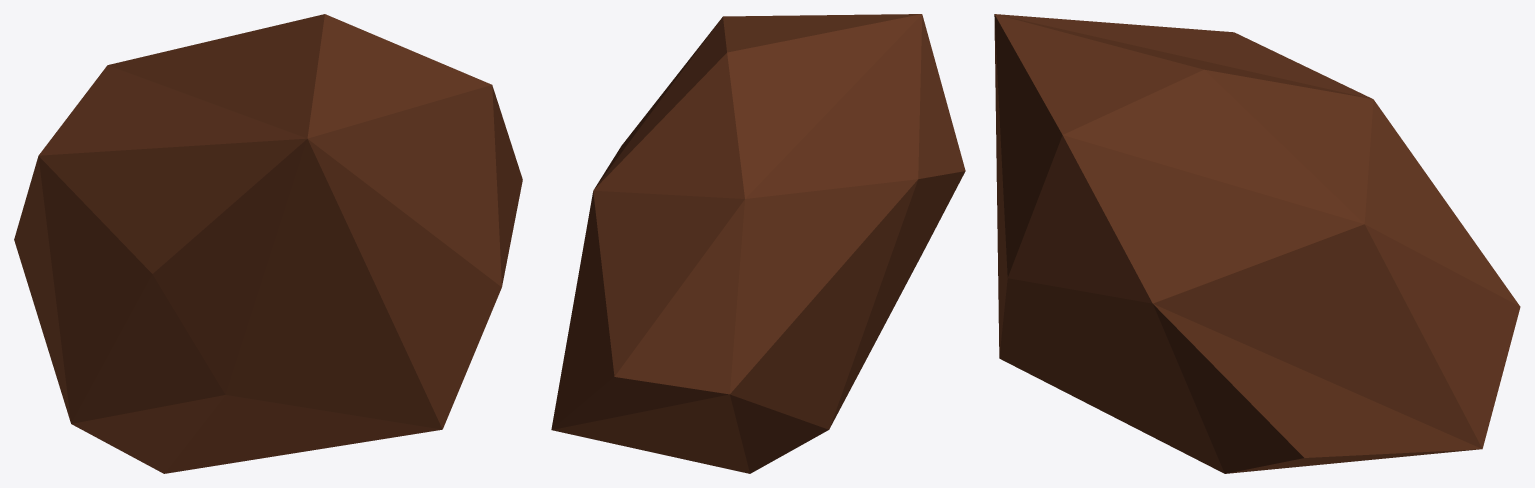
File: Rock_06_Small.obj
3 renders of one model, left to right at view 1: azimuth 30°, elevation 25°; view 2: azimuth 150°, elevation 25°; view 3: azimuth 270°, elevation 25°, orthographic. The views are drawn at different scales.
Visible parts, largest first — view 1: Rock_06_Small; view 2: Rock_06_Small; view 3: Rock_06_Small.
Boxes of the visible parts, x1,y1,x2,y2 form: Rock_06_Small: (14,14,522,473); Rock_06_Small: (551,14,965,473); Rock_06_Small: (994,14,1520,473).
Bounding box in the file's own units: 1.13 × 1.2 × 1.35.
